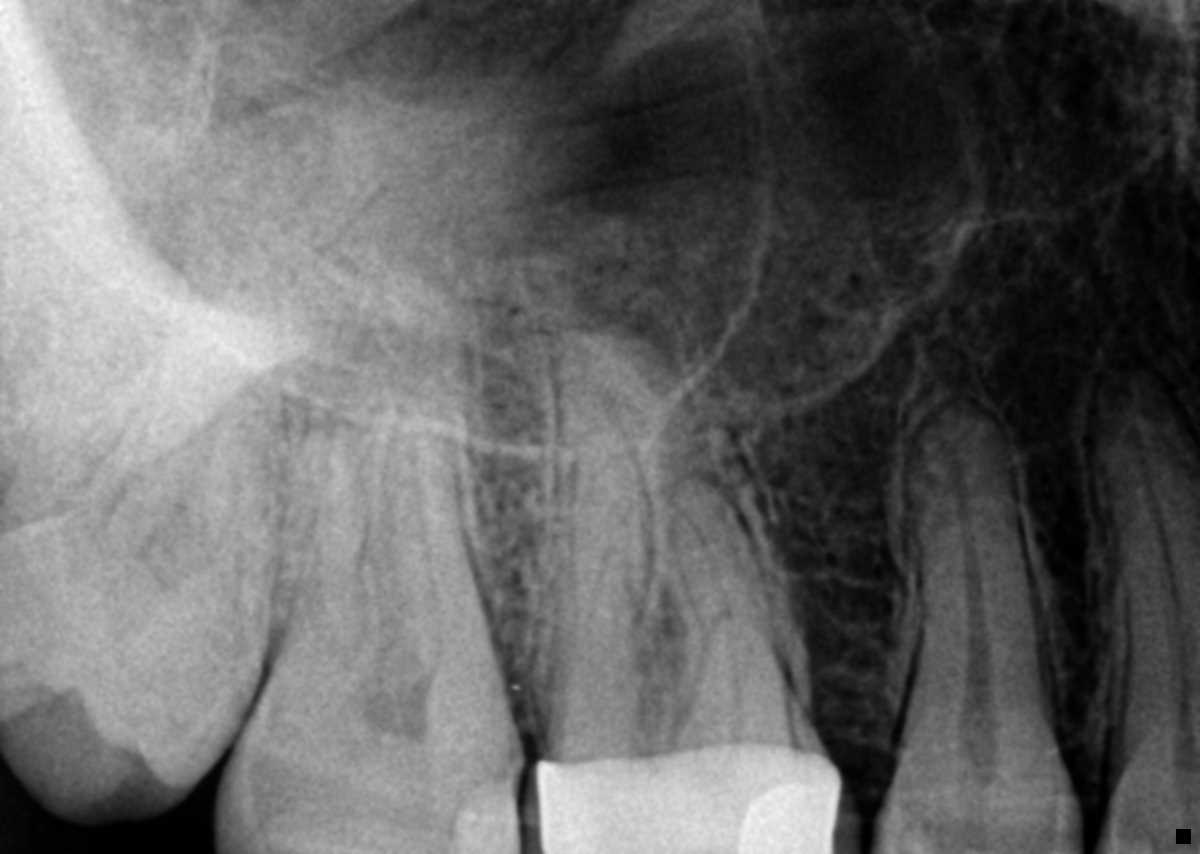Apical Lesion: (539, 298, 681, 384)
Distal Root: (548, 429, 652, 685), (280, 422, 373, 658)
Main Canal: (1111, 367, 1199, 752), (934, 420, 1003, 760)
Main Root: (0, 202, 287, 634), (893, 396, 1067, 770), (1093, 356, 1200, 762)
Mesial Canal: (409, 458, 440, 681), (726, 626, 749, 750)
Mesial Root: (664, 475, 821, 752), (380, 398, 510, 705)
Palatal Root: (274, 254, 502, 667), (543, 339, 766, 757)
